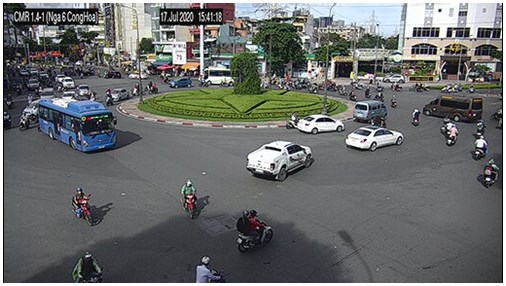xe_buyt: (204, 66, 240, 87)
xe_hoi: (246, 140, 313, 184), (344, 126, 404, 154), (298, 115, 346, 135), (21, 98, 39, 117), (109, 88, 130, 101), (384, 74, 406, 85), (170, 77, 192, 88), (38, 87, 55, 99), (61, 76, 76, 89), (127, 70, 146, 79), (105, 71, 120, 79), (28, 78, 38, 88)
xe_khach: (424, 95, 481, 121), (355, 100, 388, 122)
xe_may: (234, 210, 276, 253), (72, 250, 104, 283), (70, 187, 93, 227), (194, 255, 226, 282), (179, 179, 198, 219), (480, 158, 495, 188), (473, 135, 487, 159), (446, 122, 460, 146), (287, 111, 297, 130), (19, 112, 29, 131), (412, 107, 420, 126), (3, 110, 11, 129), (477, 120, 485, 138), (440, 116, 448, 134), (465, 82, 477, 93), (5, 93, 13, 108), (412, 83, 423, 93), (348, 90, 357, 101), (390, 94, 397, 108), (309, 83, 318, 92), (440, 84, 449, 93), (375, 91, 383, 101), (448, 85, 456, 95), (338, 84, 345, 95), (365, 86, 371, 97)
